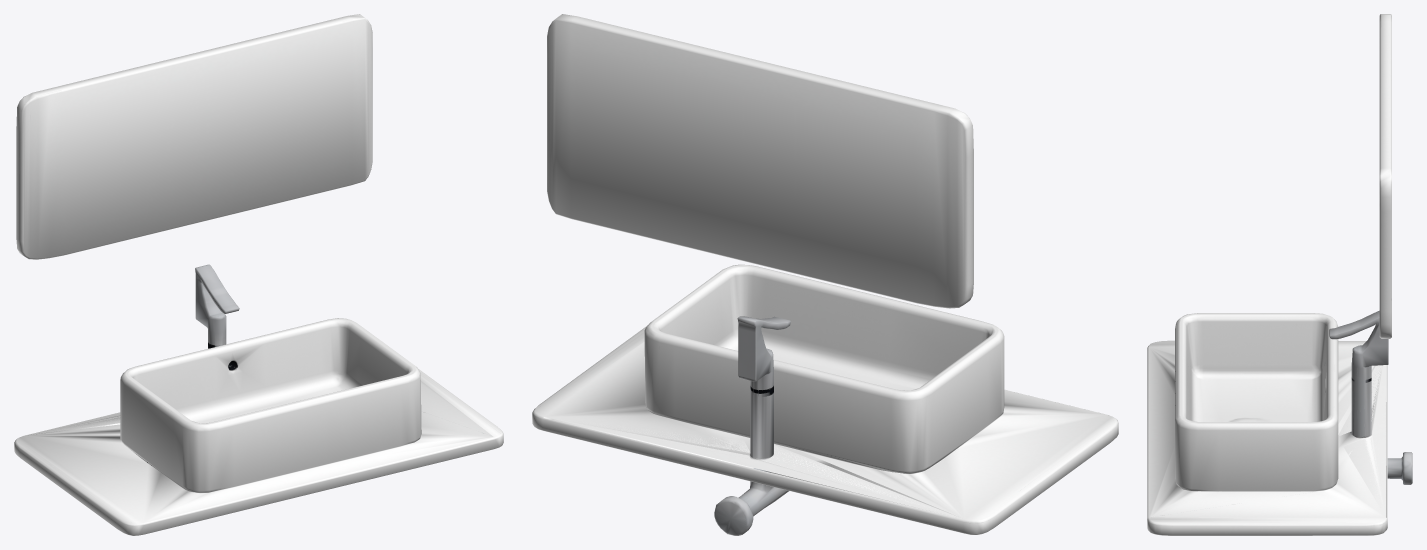
Rendered from Meshy_AI_A_stylized_low_poly_b_0428232501_texture.fbx.
The picture shows the model from 3 angles, left to right: view 1: azimuth 30°, elevation 25°; view 2: azimuth 150°, elevation 25°; view 3: azimuth 270°, elevation 25°; orthographic projection. The views are drawn at different scales.
Visible parts, largest first — view 1: Mesh_0; view 2: Mesh_0; view 3: Mesh_0.
Boxes of the visible parts, <box> form: Mesh_0: <box>14,14,503,535</box>; Mesh_0: <box>532,14,1118,535</box>; Mesh_0: <box>1147,14,1412,535</box>.
Size of the model in its own units: 191 by 185 by 116.
Materials: 1 (1 with a texture image).
